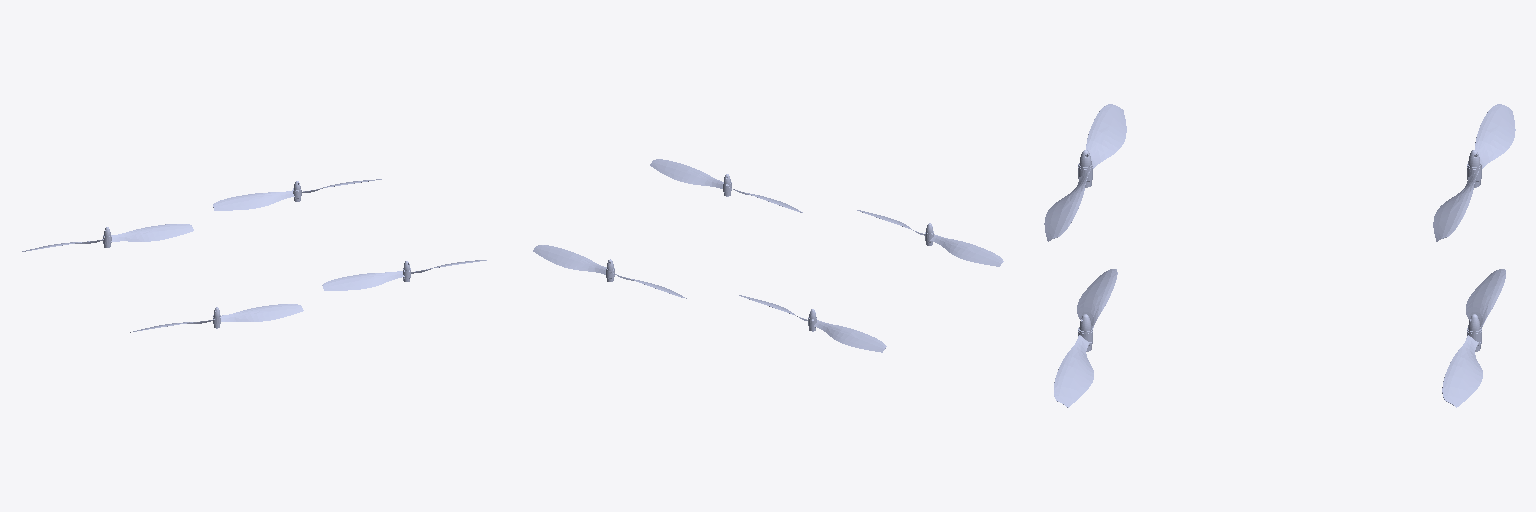
robot.urdf — URDF.SLDASM:
<?xml version="1.0" encoding="utf-8"?>
<!-- This URDF was automatically created by SolidWorks to URDF Exporter! Originally created by Stephen Brawner (brawner@gmail.com) 
     Commit Version: 1.6.0-4-g7f85cfe  Build Version: 1.6.7995.38578
     For more information, please see http://wiki.ros.org/sw_urdf_exporter -->
<robot
  name="URDF.SLDASM">
  <link
    name="BASE_LINK">
    <inertial>
      <origin
        xyz="0.00093993 0.072156 8.0388E-05"
        rpy="0 0 0" />
      <mass
        value="0.89737" />
      <inertia
        ixx="0.013314"
        ixy="-1.3492E-05"
        ixz="-1.4686E-05"
        iyy="0.02478"
        iyz="-1.493E-06"
        izz="0.013456" />
    </inertial>
    <visual>
      <origin
        xyz="0 0 0"
        rpy="0 0 0" />
      <geometry>
        <mesh
          filename="package://URDF.SLDASM/meshes/BASE_LINK.STL" />
      </geometry>
      <material
        name="">
        <color
          rgba="0.79216 0.81961 0.93333 1" />
      </material>
    </visual>
    <collision>
      <origin
        xyz="0 0 0"
        rpy="0 0 0" />
      <geometry>
        <mesh
          filename="package://URDF.SLDASM/meshes/BASE_LINK.STL" />
      </geometry>
    </collision>
  </link>
  <link
    name="RT_LINK">
    <inertial>
      <origin
        xyz="0.15852 -0.043074 0.15899"
        rpy="0 0 0" />
      <mass
        value="0.89737" />
      <inertia
        ixx="0.013314"
        ixy="-1.3492E-05"
        ixz="-1.4686E-05"
        iyy="0.02478"
        iyz="-1.493E-06"
        izz="0.013456" />
    </inertial>
    <visual>
      <origin
        xyz="0 0 0"
        rpy="0 0 0" />
      <geometry>
        <mesh
          filename="package://URDF.SLDASM/meshes/RT_LINK.STL" />
      </geometry>
      <material
        name="">
        <color
          rgba="0.79216 0.81961 0.93333 1" />
      </material>
    </visual>
    <collision>
      <origin
        xyz="0 0 0"
        rpy="0 0 0" />
      <geometry>
        <mesh
          filename="package://URDF.SLDASM/meshes/RT_LINK.STL" />
      </geometry>
    </collision>
  </link>
  <joint
    name="JX_00"
    type="continuous">
    <origin
      xyz="-0.15758 0.15891 0.11523"
      rpy="1.5708 0 0" />
    <parent
      link="BASE_LINK" />
    <child
      link="RT_LINK" />
    <axis
      xyz="0 1 0" />
    <limit
      effort="0.03"
      velocity="870" />
    <dynamics
      damping="0.1"
      friction="0.01" />
  </joint>
  <link
    name="RB_LINK">
    <inertial>
      <origin
        xyz="-0.15929 -0.043074 0.15898"
        rpy="0 0 0" />
      <mass
        value="0.89737" />
      <inertia
        ixx="0.013314"
        ixy="-1.3492E-05"
        ixz="-1.4686E-05"
        iyy="0.02478"
        iyz="-1.493E-06"
        izz="0.013456" />
    </inertial>
    <visual>
      <origin
        xyz="0 0 0"
        rpy="0 0 0" />
      <geometry>
        <mesh
          filename="package://URDF.SLDASM/meshes/RB_LINK.STL" />
      </geometry>
      <material
        name="">
        <color
          rgba="0.79216 0.81961 0.93333 1" />
      </material>
    </visual>
    <collision>
      <origin
        xyz="0 0 0"
        rpy="0 0 0" />
      <geometry>
        <mesh
          filename="package://URDF.SLDASM/meshes/RB_LINK.STL" />
      </geometry>
    </collision>
  </link>
  <joint
    name="JX_01"
    type="continuous">
    <origin
      xyz="0.16023 0.1589 0.11523"
      rpy="1.5708 0 0" />
    <parent
      link="BASE_LINK" />
    <child
      link="RB_LINK" />
    <axis
      xyz="0 1 0" />
    <limit
      effort="0.03"
      velocity="870" />
    <dynamics
      damping="0.1"
      friction="0.01" />
  </joint>
  <link
    name="LB_LINK">
    <inertial>
      <origin
        xyz="-0.15928 -0.043074 -0.15883"
        rpy="0 0 0" />
      <mass
        value="0.89737" />
      <inertia
        ixx="0.013314"
        ixy="-1.3492E-05"
        ixz="-1.4686E-05"
        iyy="0.02478"
        iyz="-1.493E-06"
        izz="0.013456" />
    </inertial>
    <visual>
      <origin
        xyz="0 0 0"
        rpy="0 0 0" />
      <geometry>
        <mesh
          filename="package://URDF.SLDASM/meshes/LB_LINK.STL" />
      </geometry>
      <material
        name="">
        <color
          rgba="0.79216 0.81961 0.93333 1" />
      </material>
    </visual>
    <collision>
      <origin
        xyz="0 0 0"
        rpy="0 0 0" />
      <geometry>
        <mesh
          filename="package://URDF.SLDASM/meshes/LB_LINK.STL" />
      </geometry>
    </collision>
  </link>
  <joint
    name="JX_02"
    type="continuous">
    <origin
      xyz="0.16022 -0.15891 0.11523"
      rpy="1.5708 0 0" />
    <parent
      link="BASE_LINK" />
    <child
      link="LB_LINK" />
    <axis
      xyz="0 1 0" />
    <limit
      effort="0.03"
      velocity="870" />
    <dynamics
      damping="0.1"
      friction="0.01" />
  </joint>
  <link
    name="LT_LINK">
    <inertial>
      <origin
        xyz="0.15853 -0.043074 -0.15882"
        rpy="0 0 0" />
      <mass
        value="0.89737" />
      <inertia
        ixx="0.013314"
        ixy="-1.3492E-05"
        ixz="-1.4686E-05"
        iyy="0.02478"
        iyz="-1.493E-06"
        izz="0.013456" />
    </inertial>
    <visual>
      <origin
        xyz="0 0 0"
        rpy="0 0 0" />
      <geometry>
        <mesh
          filename="package://URDF.SLDASM/meshes/LT_LINK.STL" />
      </geometry>
      <material
        name="">
        <color
          rgba="0.79216 0.81961 0.93333 1" />
      </material>
    </visual>
    <collision>
      <origin
        xyz="0 0 0"
        rpy="0 0 0" />
      <geometry>
        <mesh
          filename="package://URDF.SLDASM/meshes/LT_LINK.STL" />
      </geometry>
    </collision>
  </link>
  <joint
    name="JX_03"
    type="continuous">
    <origin
      xyz="-0.15759 -0.1589 0.11523"
      rpy="1.5708 0 0" />
    <parent
      link="BASE_LINK" />
    <child
      link="LT_LINK" />
    <axis
      xyz="0 1 0" />
    <limit
      effort="0.03"
      velocity="870" />
    <dynamics
      damping="0.1"
      friction="0.01" />
  </joint>
</robot>

--- Render facts (derived) ---
Views: 3 orthographic renders of the robot side by side, from view 1: azimuth 30°, elevation 25°; view 2: azimuth 150°, elevation 25°; view 3: azimuth 270°, elevation 25°.
Model URDF.SLDASM with 5 links and 4 joints (4 continuous), rooted at BASE_LINK, posed all joints at 0.
Links seen in each view (by area): view 1: RT_LINK, LT_LINK, RB_LINK, LB_LINK; view 2: RB_LINK, LB_LINK, LT_LINK, RT_LINK; view 3: RT_LINK, LT_LINK, RB_LINK, LB_LINK.
Boxes of the visible links, x1,y1,x2,y2 form: RT_LINK: (22, 224, 193, 251); LT_LINK: (130, 304, 303, 332); RB_LINK: (213, 179, 381, 210); LB_LINK: (322, 260, 486, 290); RB_LINK: (533, 245, 686, 298); LB_LINK: (650, 159, 802, 212); LT_LINK: (857, 210, 1003, 266); RT_LINK: (739, 295, 886, 352); RT_LINK: (1433, 104, 1515, 241); LT_LINK: (1044, 104, 1126, 241); RB_LINK: (1442, 269, 1505, 407); LB_LINK: (1054, 269, 1117, 407).
Bounding box of the posed robot: 0.5767 × 0.385 × 0.0322 m (x, y, z).
4 mesh visuals loaded from 5 distinct referenced files (4 binary STL); not drawn: 1 (reference not matched to a file when rendering).
